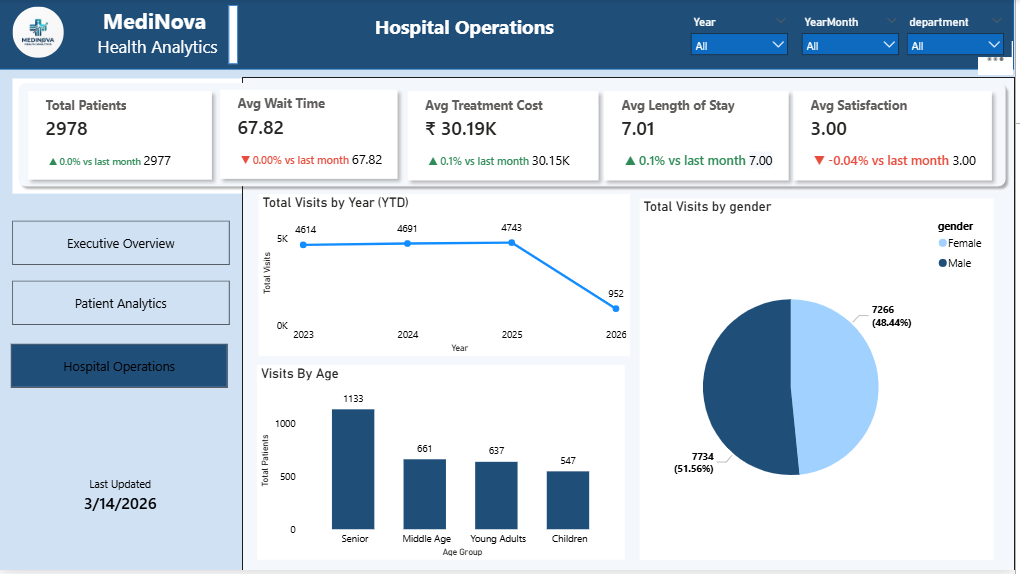

The dashboard page shown, as its layout file describes it:
{"tool":"powerbi","page":{"name":"Hospital Operations","canvas":[1280,720],"ordinal":4},"visuals":[{"type":"shape","box":[16.7,100,1260,145],"z":0},{"type":"shape","box":[0,0,1278.9,88.9],"z":1000},{"type":"image","box":[16.7,10,64.4,64.4],"z":2000},{"type":"textbox","box":[0,191.7,303.3,38.3],"z":3000},{"type":"textbox","box":[95.6,4.4,206.7,78.9],"z":4000},{"type":"shape","box":[290,6.7,12,74.4],"z":5000},{"type":"textbox","box":[302,14,574,44],"z":6000},{"type":"shape","box":[306.2,97.5,973.8,622.5],"z":7000},{"type":"shape","title":"Exceutive Overview","box":[16.2,280,273.3,55],"z":8000},{"type":"shape","title":"Exceutive Overview","box":[16.2,356.1,273.3,55],"z":9000},{"type":"shape","title":"Exceutive Overview","box":[14.6,434.3,273.3,55.3],"z":10000},{"type":"shape","box":[16.7,98.3,1258.3,145],"z":11000},{"type":"cardVisual","fields":{"Data":["All Measures.Avg Treatment Cost"]},"box":[485.3,86.6,298.3,170],"z":12000},{"type":"cardVisual","fields":{"Data":["All Measures.Avg Satisfaction"]},"box":[971.7,86.6,308.3,170],"z":13000},{"type":"lineChart","title":"Total Visits by Year (YTD)","fields":{"Category":["DateTable.Year"],"Y":["All Measures.Total Visits"]},"box":[326,246,468,204],"z":14000},{"type":"pieChart","fields":{"Series":["healthcare_patients_clean.gender"],"Y":["All Measures.Total Visits"]},"box":[806.8,252.1,445.7,455.4],"z":15000},{"type":"clusteredColumnChart","title":"Visits By Age","fields":{"Category":["healthcare_patients_clean.Age Group"],"Y":["All Measures.Total Patients"]},"box":[325.3,461.9,463.6,245.6],"z":16000},{"type":"cardVisual","fields":{"Data":["All Measures.Last Updated"]},"box":[73.3,583.3,158.3,81.7],"z":17000},{"type":"slicer","fields":{"Values":["DateTable.Year"]},"box":[862,16,142,58],"z":18000},{"type":"slicer","fields":{"Values":["healthcare_doctors_clean.department"]},"box":[1134,16,142,58],"z":19000},{"type":"slicer","fields":{"Values":["DateTable.YearMonth"]},"box":[1002,16,142,58],"z":20000},{"type":"cardVisual","fields":{"Data":["All Measures.Avg Length of Stay"]},"box":[732.6,86.6,290,170],"z":21000},{"type":"cardVisual","fields":{"Data":["All Measures.Total Patients"]},"box":[8.1,87,289.5,169.2],"z":22000},{"type":"cardVisual","fields":{"Data":["All Measures.Avg Wait Time"]},"box":[248.9,84.6,281.4,170.8],"z":23000}]}

Visuals, with their boxes in screenshot pixels (x1, y1, x2, y2), scaled from the page's 1280x720 canvas onto the 1020x574 screenshot:
shape: 13 80 1017 195
shape: 0 0 1019 71
image: 13 8 65 59
textbox: 0 153 242 183
textbox: 76 4 241 66
shape: 231 5 241 65
textbox: 241 11 698 46
shape: 244 78 1019 573
"Exceutive Overview" shape: 13 223 231 267
"Exceutive Overview" shape: 13 284 231 328
"Exceutive Overview" shape: 12 346 229 390
shape: 13 78 1016 194
cardVisual - All Measures.Avg Treatment Cost: 387 69 624 205
cardVisual - All Measures.Avg Satisfaction: 774 69 1019 205
"Total Visits by Year (YTD)" lineChart: 260 196 633 359
pieChart - healthcare_patients_clean.gender x All Measures.Total Visits: 643 201 998 564
"Visits By Age" clusteredColumnChart: 259 368 629 564
cardVisual - All Measures.Last Updated: 58 465 185 530
slicer - DateTable.Year: 687 13 800 59
slicer - healthcare_doctors_clean.department: 904 13 1017 59
slicer - DateTable.YearMonth: 798 13 912 59
cardVisual - All Measures.Avg Length of Stay: 584 69 815 205
cardVisual - All Measures.Total Patients: 6 69 237 204
cardVisual - All Measures.Avg Wait Time: 198 67 423 204
